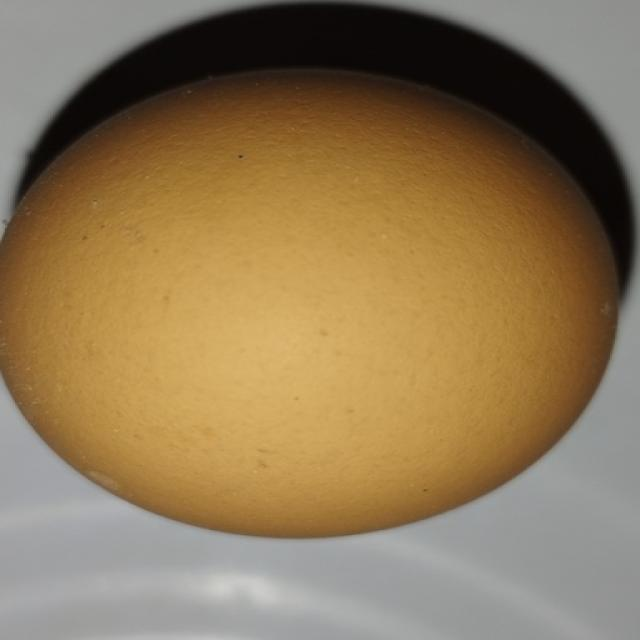fresh: (0, 53, 623, 542)
